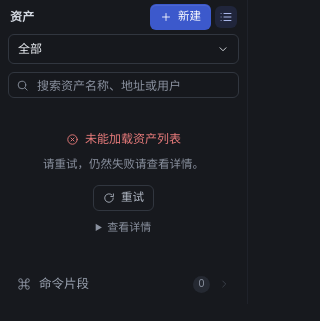
Test: asset list load failure › shows an error with retry instead of the empty state, and recovers
Click the button "重试" at [124, 198], box [93,185,154,211]
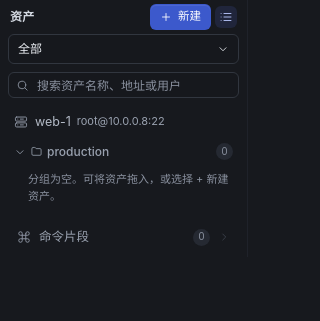
Result: the text "web-1" is shown at [35,112,71,132]
Result: the message "未能加载资产列表 请重试，仍然失败请查看详情。 重试 查看详情" is gone
